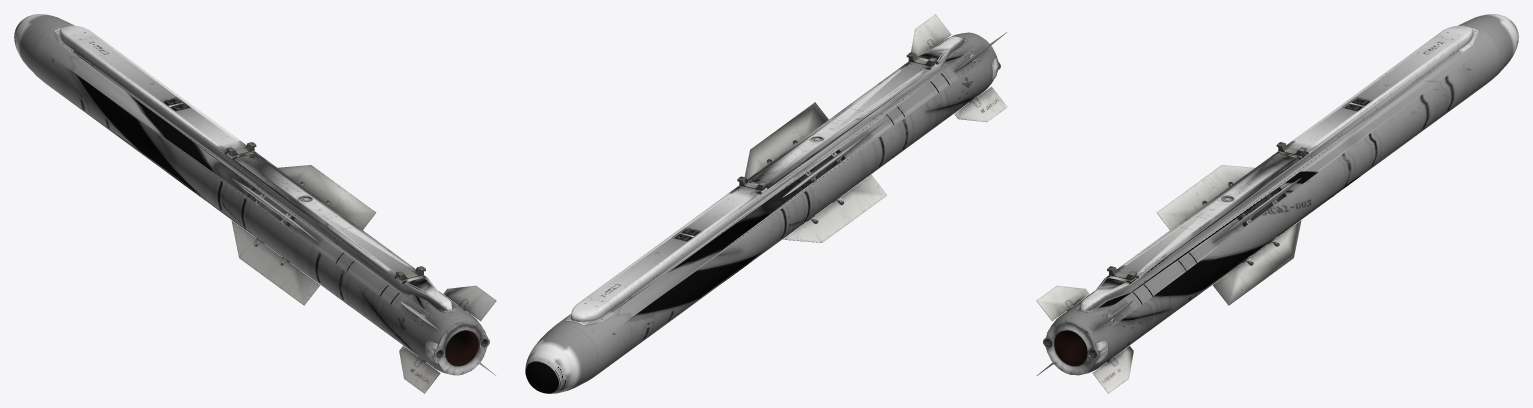
The picture shows the model from 3 angles, left to right: view 1: azimuth 30°, elevation 25°; view 2: azimuth 150°, elevation 25°; view 3: azimuth 330°, elevation 25°; orthographic projection.
Parts seen in each view (by area): view 1: body|1db0a800-e29e-4773-98f3-76ff6773b53f; view 2: body|1db0a800-e29e-4773-98f3-76ff6773b53f, body|851d92fe-55e7-4c06-85ef-345a9a7c3a11; view 3: body|1db0a800-e29e-4773-98f3-76ff6773b53f.
Boxes of the visible parts, x1,y1,x2,y2 form: body|1db0a800-e29e-4773-98f3-76ff6773b53f: [14, 14, 496, 393]; body|1db0a800-e29e-4773-98f3-76ff6773b53f: [525, 14, 1007, 393]; body|851d92fe-55e7-4c06-85ef-345a9a7c3a11: [525, 361, 558, 393]; body|1db0a800-e29e-4773-98f3-76ff6773b53f: [1036, 14, 1518, 393].
Size of the model in its own units: 0.3551 by 0.367 by 3.7.
Materials: 2 (1 with a texture image).
